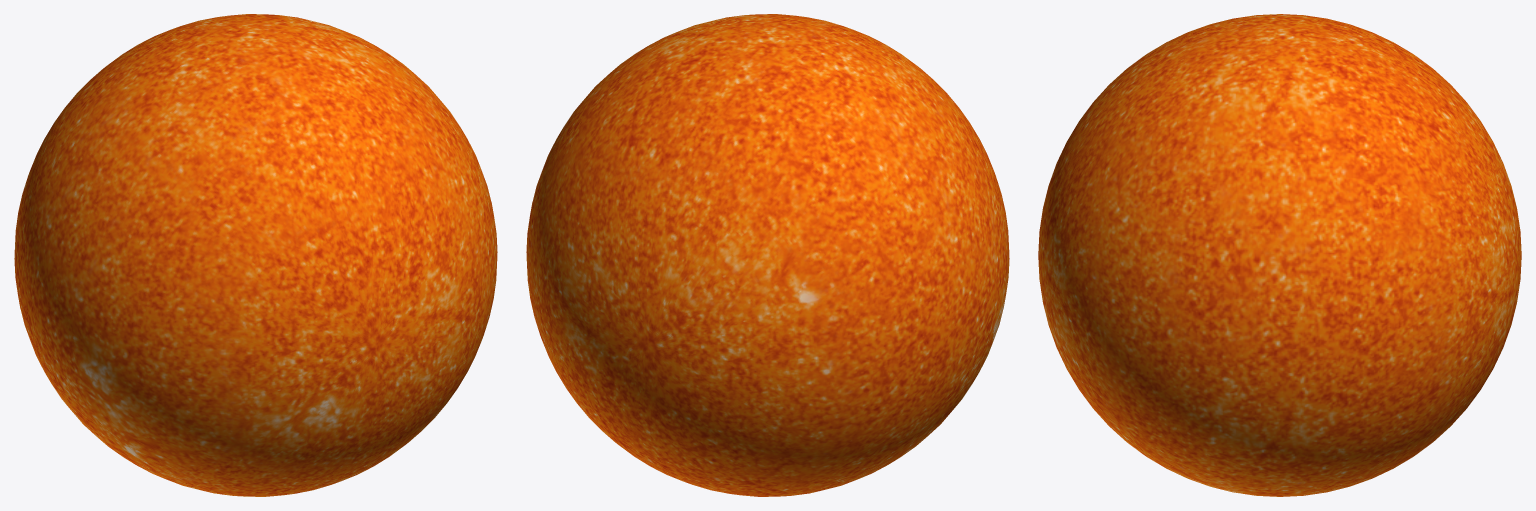
The model's file is sun.obj.
The picture shows the model from 3 angles, left to right: view 1: azimuth 30°, elevation 25°; view 2: azimuth 150°, elevation 25°; view 3: azimuth 270°, elevation 25°; orthographic projection.
Visible parts, largest first — view 1: UnstableStarref_2_0; view 2: UnstableStarref_2_0; view 3: UnstableStarref_2_0.
Part boxes in pixels (x1,y1,x2,y2): UnstableStarref_2_0: (14,14,497,496); UnstableStarref_2_0: (526,14,1009,496); UnstableStarref_2_0: (1038,14,1521,496).
Bounding box in the file's own units: 20.2 × 20.2 × 20.2.
Materials: 2 (2 with a texture image).
